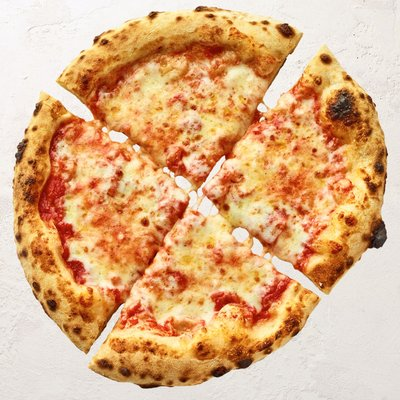sandwich: (8, 3, 394, 386), (200, 44, 389, 297), (87, 208, 320, 388)
